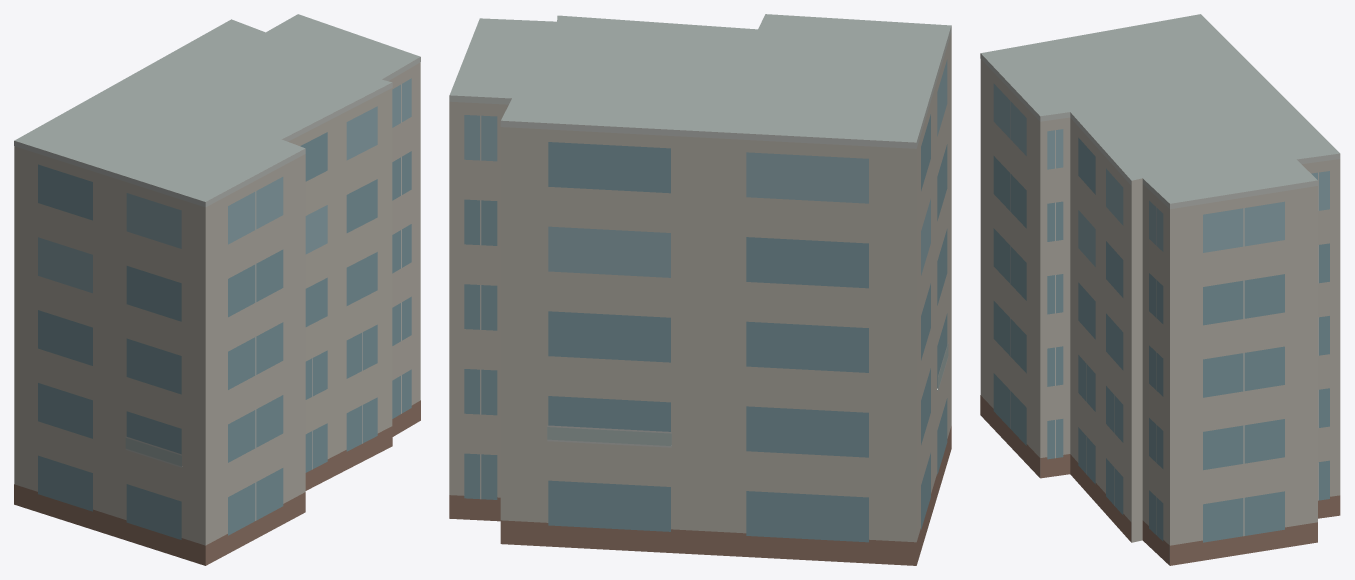
Rendered from survey-upis-33046895.glb.
The picture shows the model from 3 angles, left to right: view 1: azimuth 30°, elevation 25°; view 2: azimuth 150°, elevation 25°; view 3: azimuth 270°, elevation 25°; orthographic projection. The views are drawn at different scales.
Parts seen in each view (by area): view 1: survey-upis-33046895.tmp; view 2: survey-upis-33046895.tmp; view 3: survey-upis-33046895.tmp.
Part boxes in pixels (left/top/right/bottom): survey-upis-33046895.tmp: left=14, top=14, right=420, bottom=565; survey-upis-33046895.tmp: left=449, top=14, right=951, bottom=565; survey-upis-33046895.tmp: left=980, top=14, right=1340, bottom=565.
Bounding box in the file's own units: 18.34 × 16.3 × 14.69.
